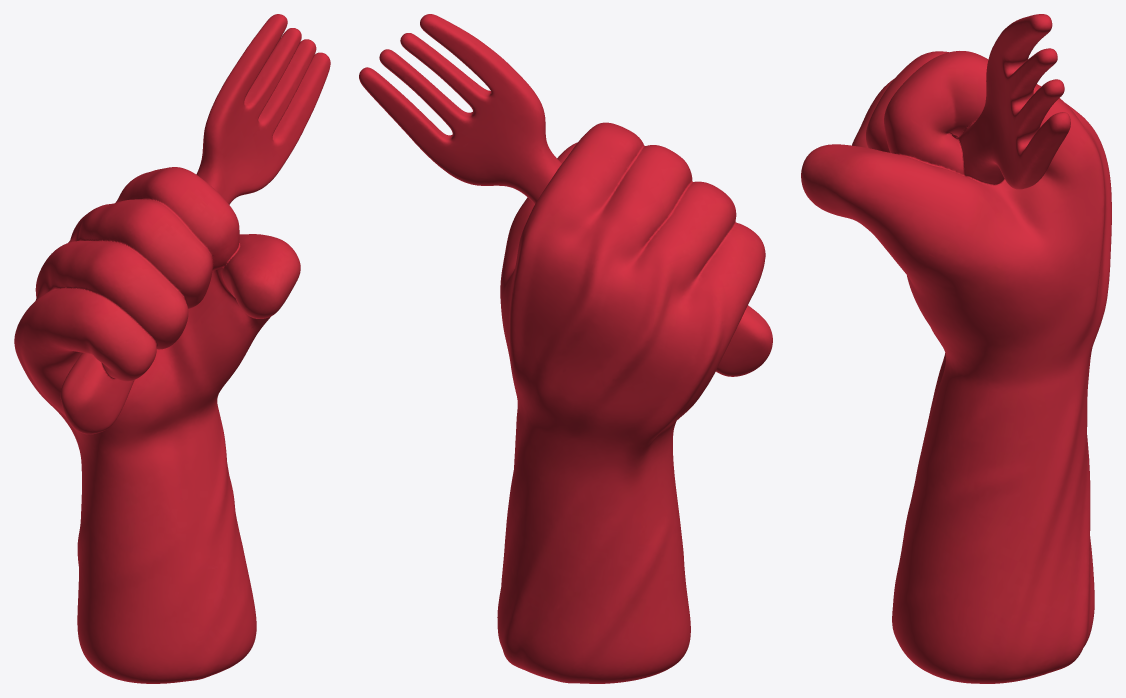
Rendered from fist.glb.
3 views of the same model, side by side, from view 1: azimuth 30°, elevation 25°; view 2: azimuth 150°, elevation 25°; view 3: azimuth 270°, elevation 25° (orthographic). The views are drawn at different scales.
Visible parts, largest first — view 1: Mesh_0; view 2: Mesh_0; view 3: Mesh_0.
Part boxes in pixels (x1,y1,x2,y2): Mesh_0: (14,14,330,683); Mesh_0: (359,14,772,683); Mesh_0: (801,14,1111,683).
Size of the model in its own units: 0.0698 by 0.12 by 0.0477.
1 material, 1 textured.
